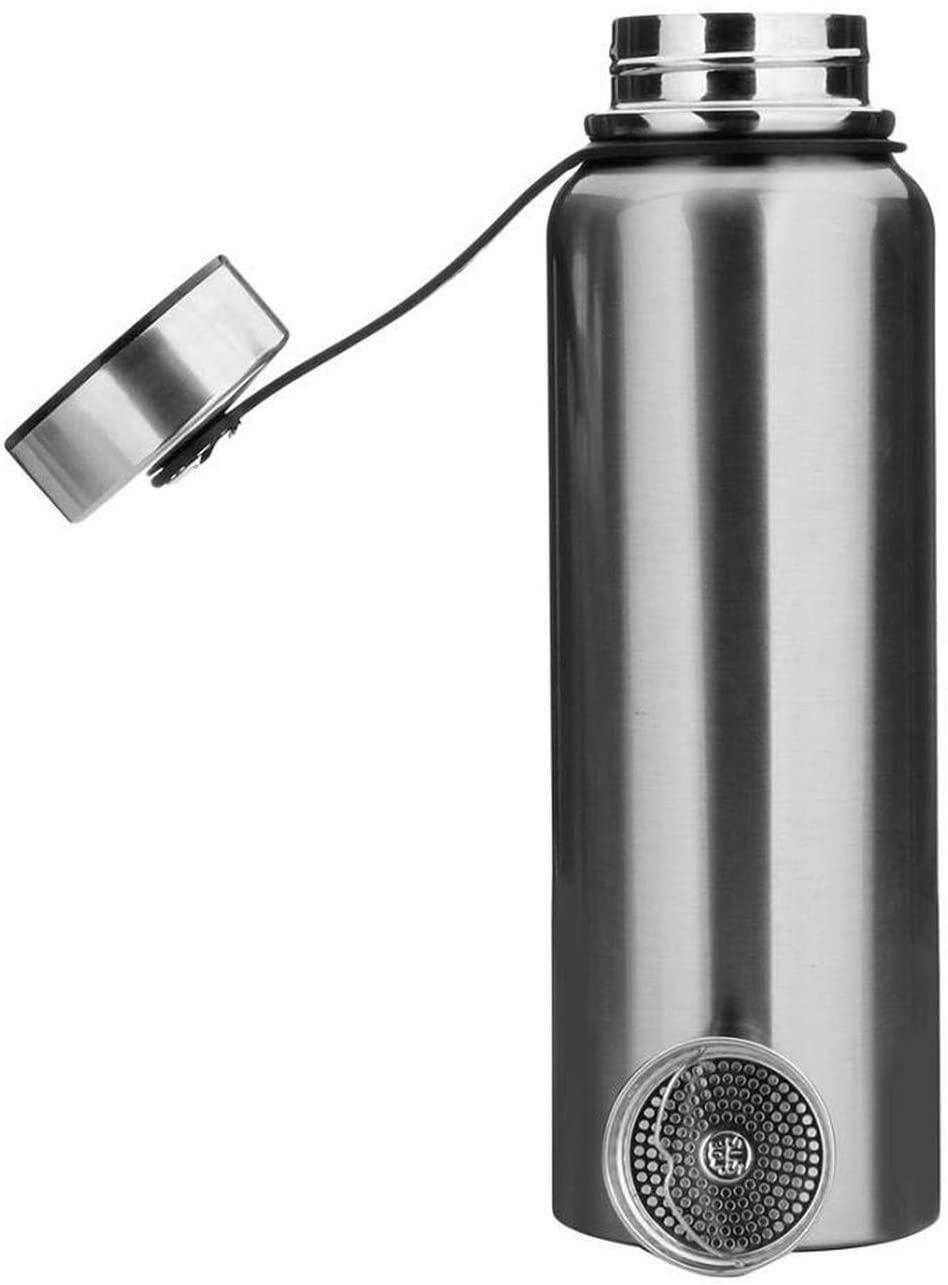gym bottle: (524, 5, 947, 1280)
